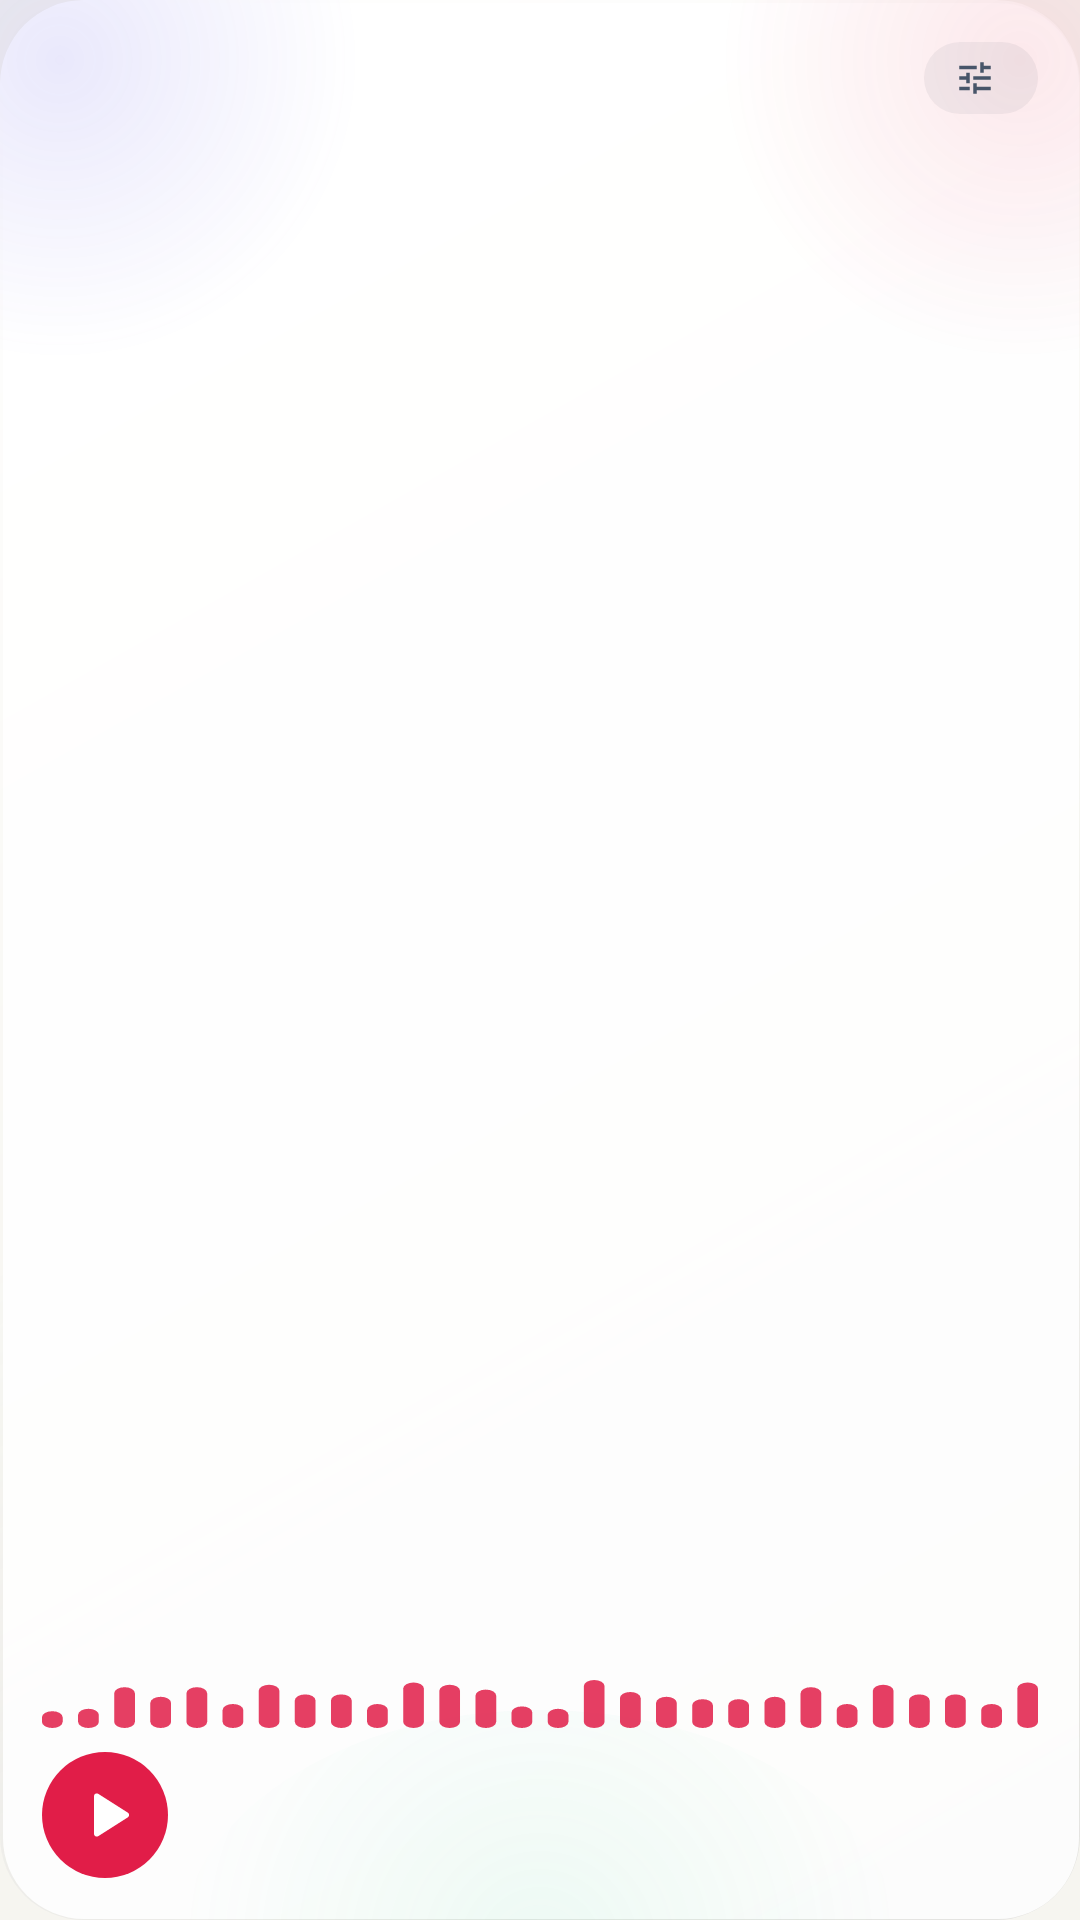

Screen size 1080×1920. Icon name, then its center in pixels as [x,y]:
bic tune: [975,78]
Play briefing: [111,1815]
